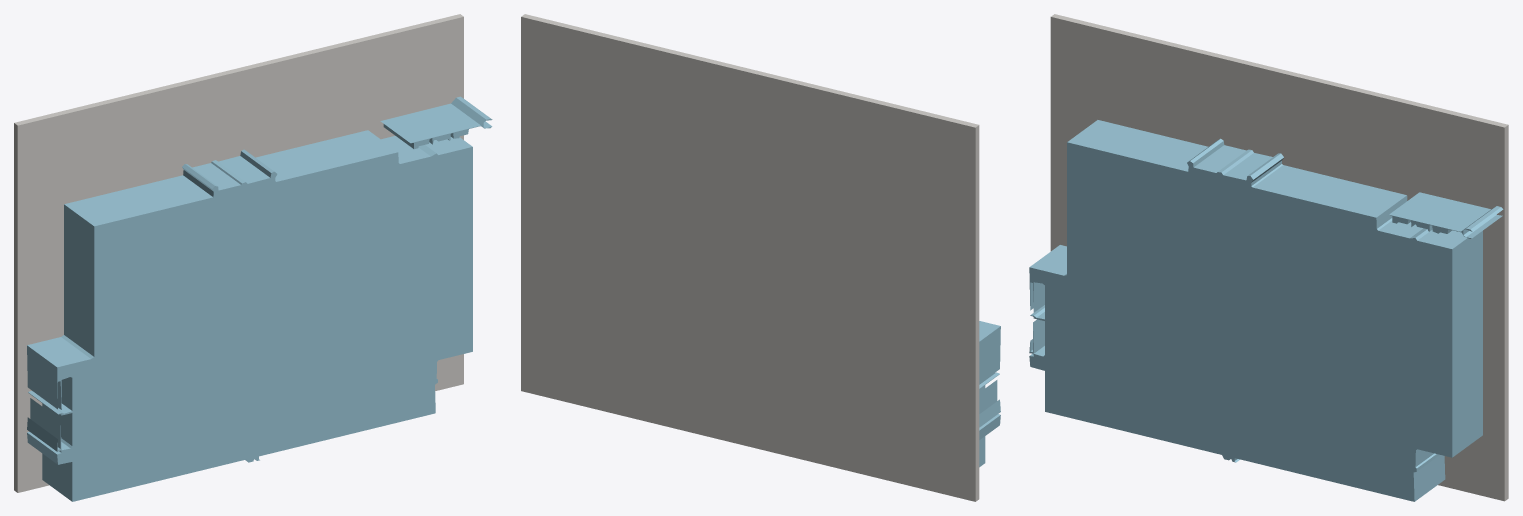
The picture shows the model from 3 angles, left to right: view 1: azimuth 30°, elevation 25°; view 2: azimuth 150°, elevation 25°; view 3: azimuth 330°, elevation 25°; orthographic projection.
Visible parts, largest first — view 1: world; view 2: world; view 3: world.
Part boxes in pixels (left/top/right/bottom): world: left=14, top=14, right=492, bottom=501; world: left=521, top=14, right=1000, bottom=501; world: left=1029, top=14, right=1508, bottom=501.
Bounding box in the file's own units: 10.23 × 8.05 × 1.35.
